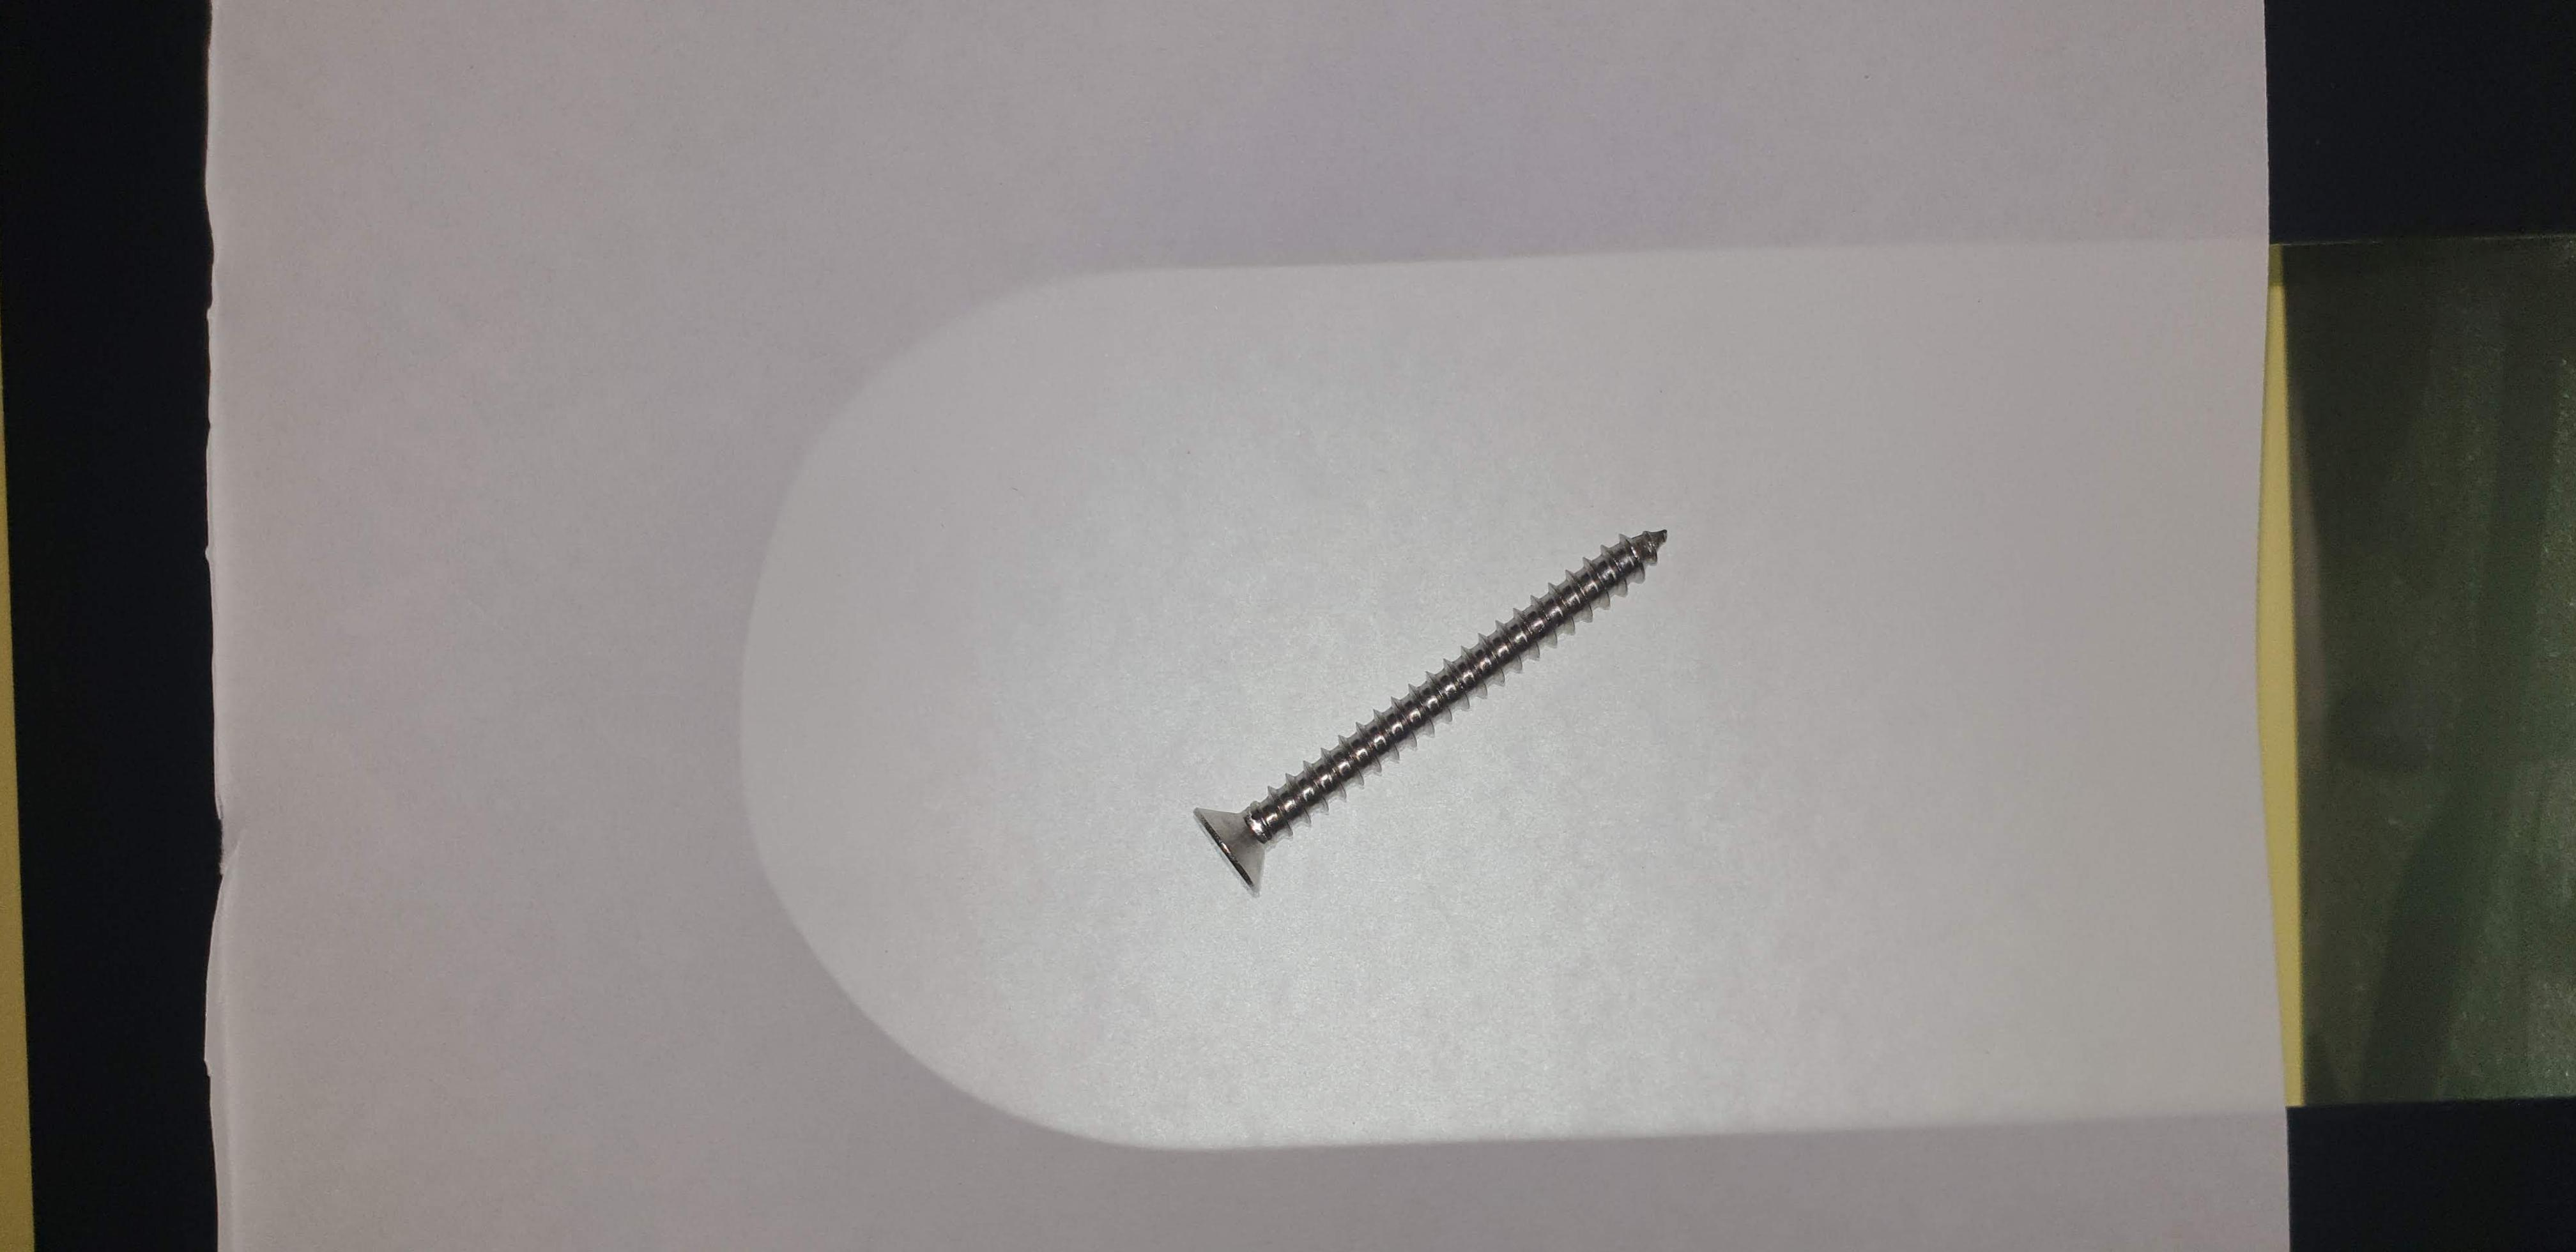fastener: (1173, 491, 1699, 914)
